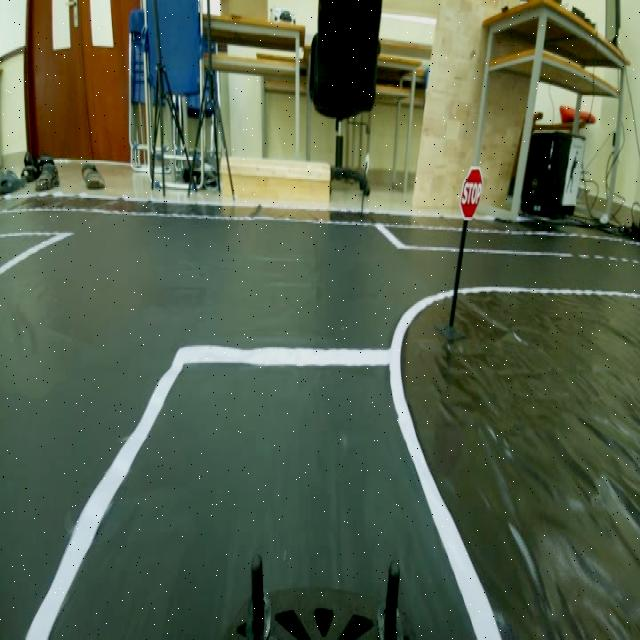stop: (454, 157, 488, 223)
